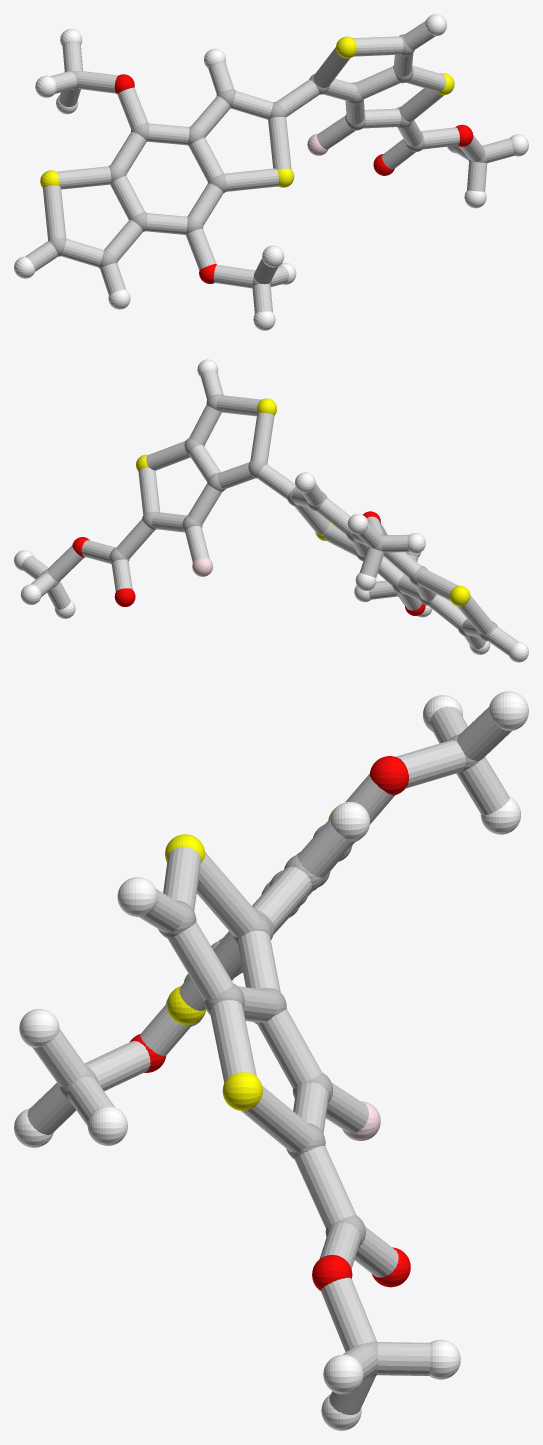
Rendered from color.glb.
3 renders of one model, top to bottom at view 1: azimuth 30°, elevation 25°; view 2: azimuth 150°, elevation 25°; view 3: azimuth 270°, elevation 25°, orthographic. The views are drawn at different scales.
Visible parts, largest first — view 1: grp15205, grp8689, grp1, grp7241, grp13395; view 2: grp15205, grp8689, grp1, grp7241, grp13395; view 3: grp15205, grp8689, grp1, grp13395, grp7241.
Part boxes in pixels (left/top/right/bottom): grp15205: left=25, top=21, right=514, bottom=314; grp8689: left=14, top=14, right=528, bottom=330; grp1: left=48, top=34, right=486, bottom=285; grp7241: left=40, top=36, right=454, bottom=187; grp13395: left=114, top=74, right=473, bottom=283; grp15205: left=21, top=370, right=518, bottom=655; grp8689: left=14, top=359, right=528, bottom=662; grp1: left=40, top=394, right=497, bottom=641; grp7241: left=136, top=398, right=470, bottom=606; grp13395: left=72, top=511, right=425, bottom=615; grp15205: left=27, top=706, right=511, bottom=1414; grp8689: left=14, top=691, right=528, bottom=1430; grp1: left=59, top=734, right=479, bottom=1377; grp13395: left=130, top=756, right=410, bottom=1290; grp7241: left=165, top=809, right=360, bottom=1110.
Bounding box in the file's own units: 16.5 × 7.65 × 7.67.
